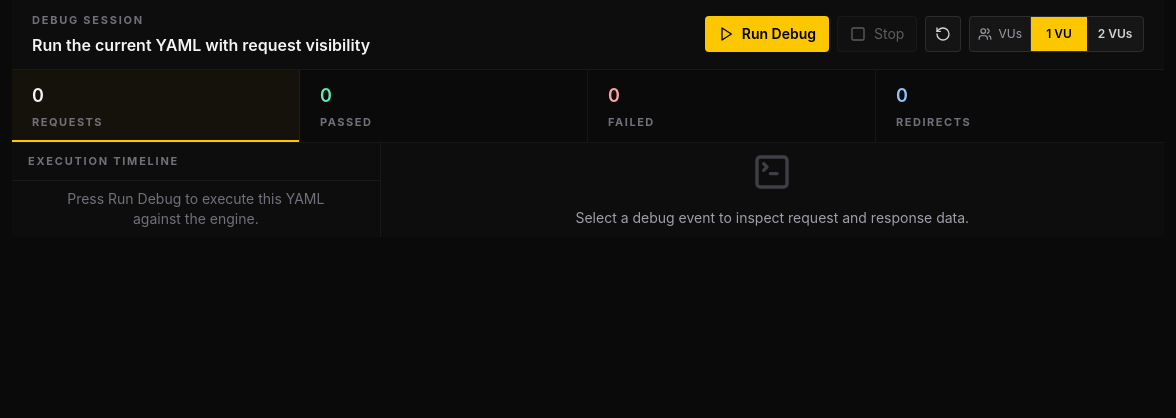
Test: YAMLDebugSession RLP debug fixes › keeps original counts and shows an empty timeline when a filter has no matches
Click the button "Run Debug".
click(767, 34)  # box [705,16,829,52]
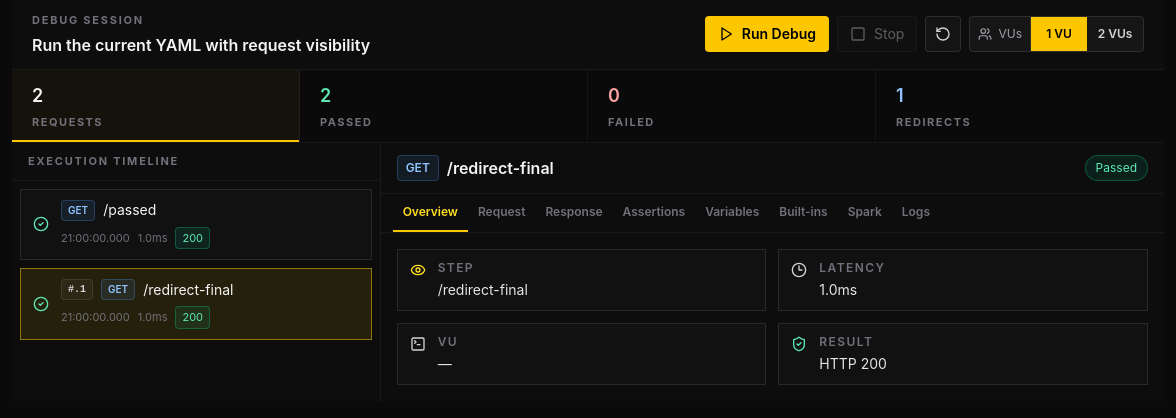
Click the button with aria-label "Failed: 0. Filter execution timeline.".
click(631, 122)  # box [588,70,876,142]
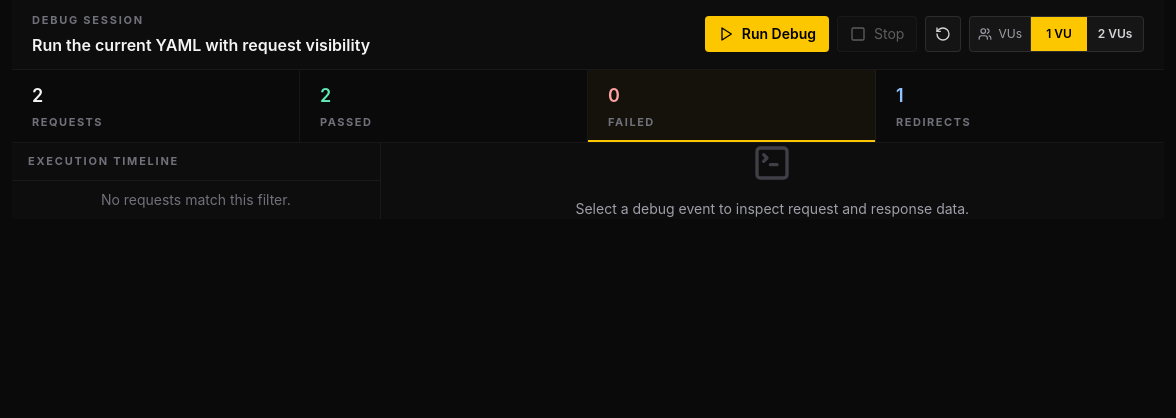
Now the button with aria-label "Requests: 2. Filter execution timeline." is shown, box [12,70,300,142]
Now the button with aria-label "Passed: 2. Filter execution timeline." is shown, box [300,70,588,142]
Now the button with aria-label "Redirects: 1. Filter execution timeline." is shown, box [876,70,1164,142]
Click the button "Run Debug".
click(767, 34)  # box [705,16,829,52]
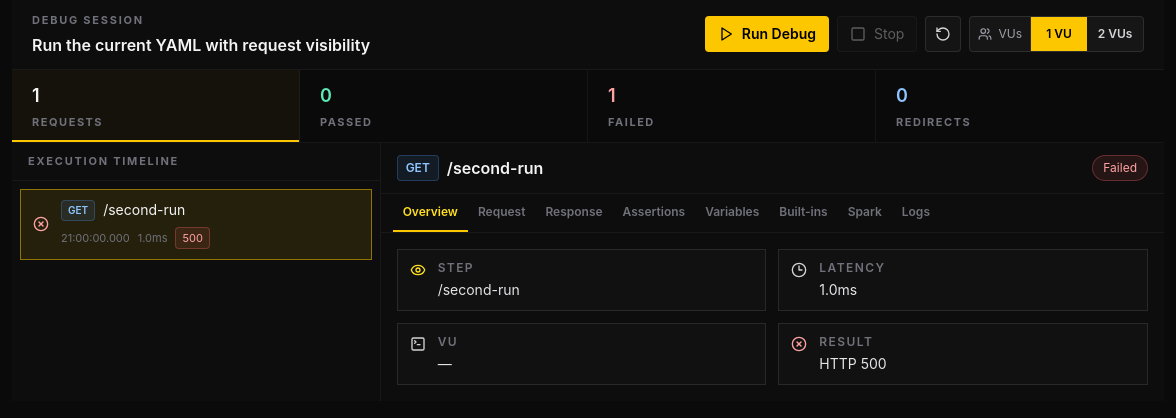
Now the button with aria-label "Requests: 1. Filter execution timeline." is shown, box [12,70,300,142]
Now the button with aria-label "Passed: 0. Filter execution timeline." is shown, box [300,70,588,142]
Now the button with aria-label "Failed: 1. Filter execution timeline." is shown, box [588,70,876,142]
